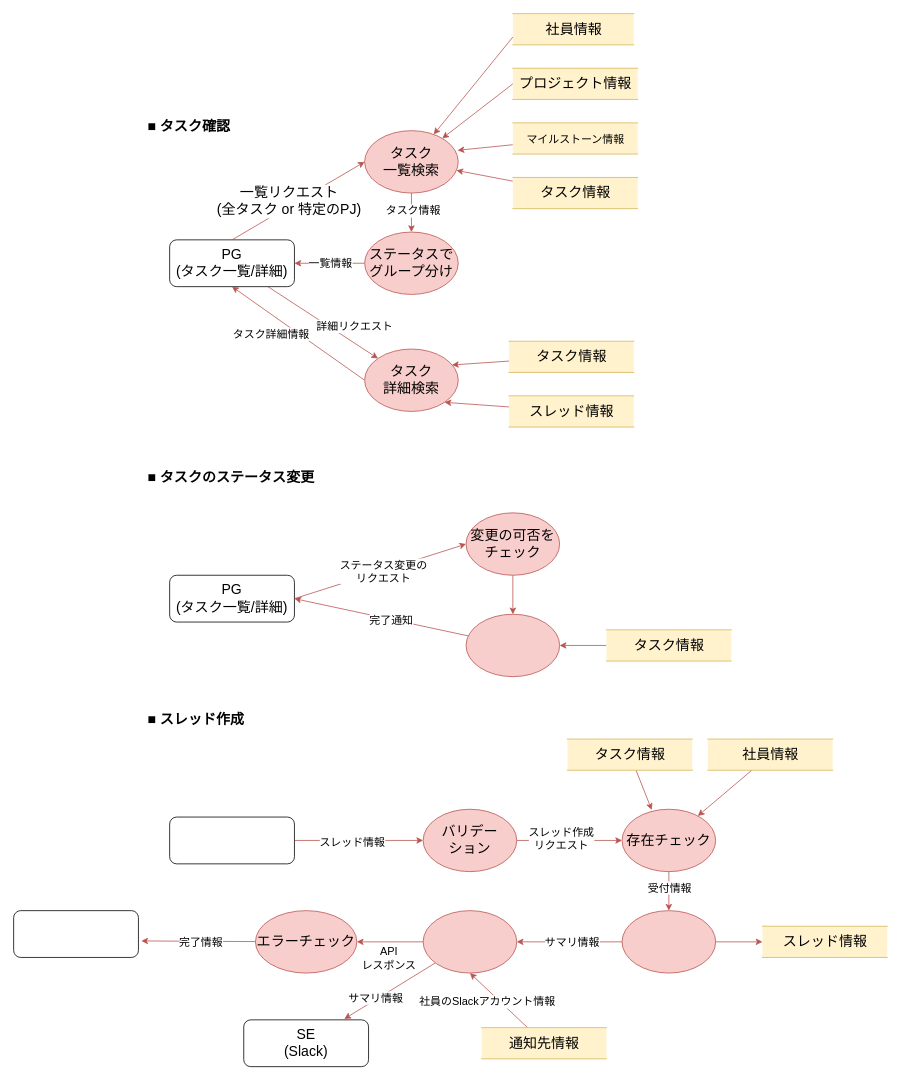
Image size: 901x1080. Some labels were removed from this diagram. Here are the shapes that lost their labels. From the top down, the box of each, then its label:
(465, 613, 560, 677): ステータス 変更
(169, 816, 294, 864): PG (スレッド作成)
(13, 910, 138, 957): PG (スレッド)
(422, 910, 517, 973): Slack通知
(621, 910, 716, 973): スレッド作成 （保存）
